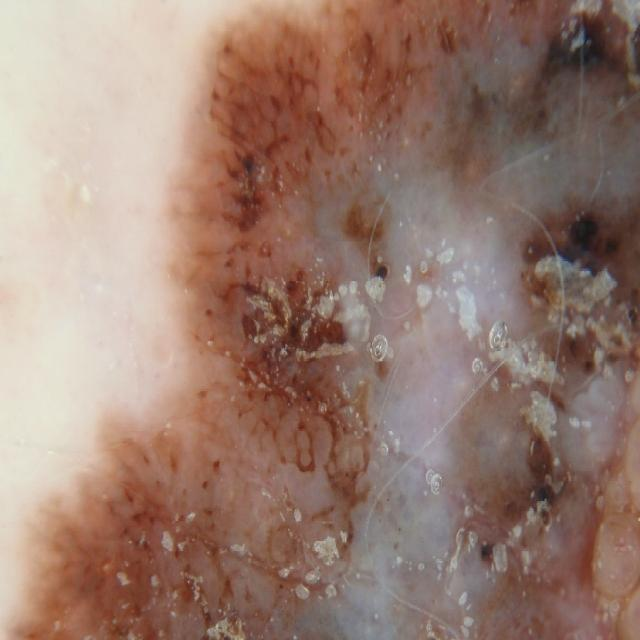Melanoma: (0, 5, 640, 640)
